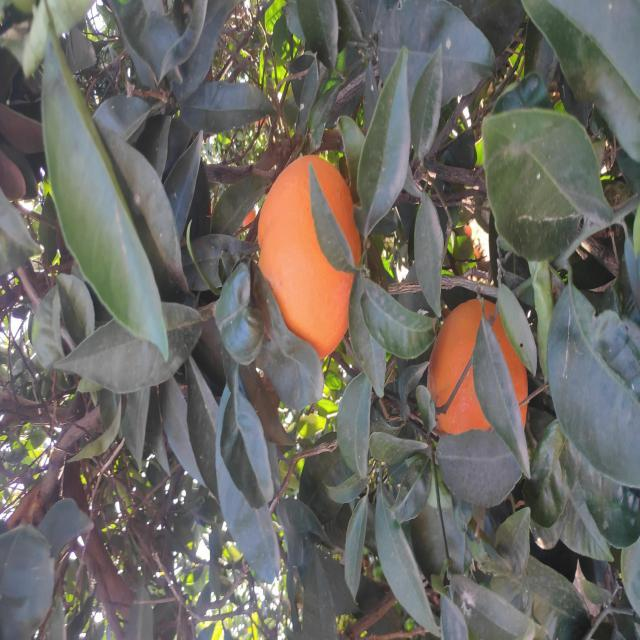Jeruk Sudah Matang: (278, 256, 487, 360), (198, 426, 338, 529)
